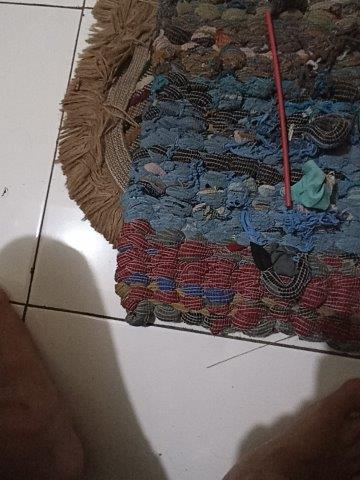sedotan: (266, 13, 292, 206)
